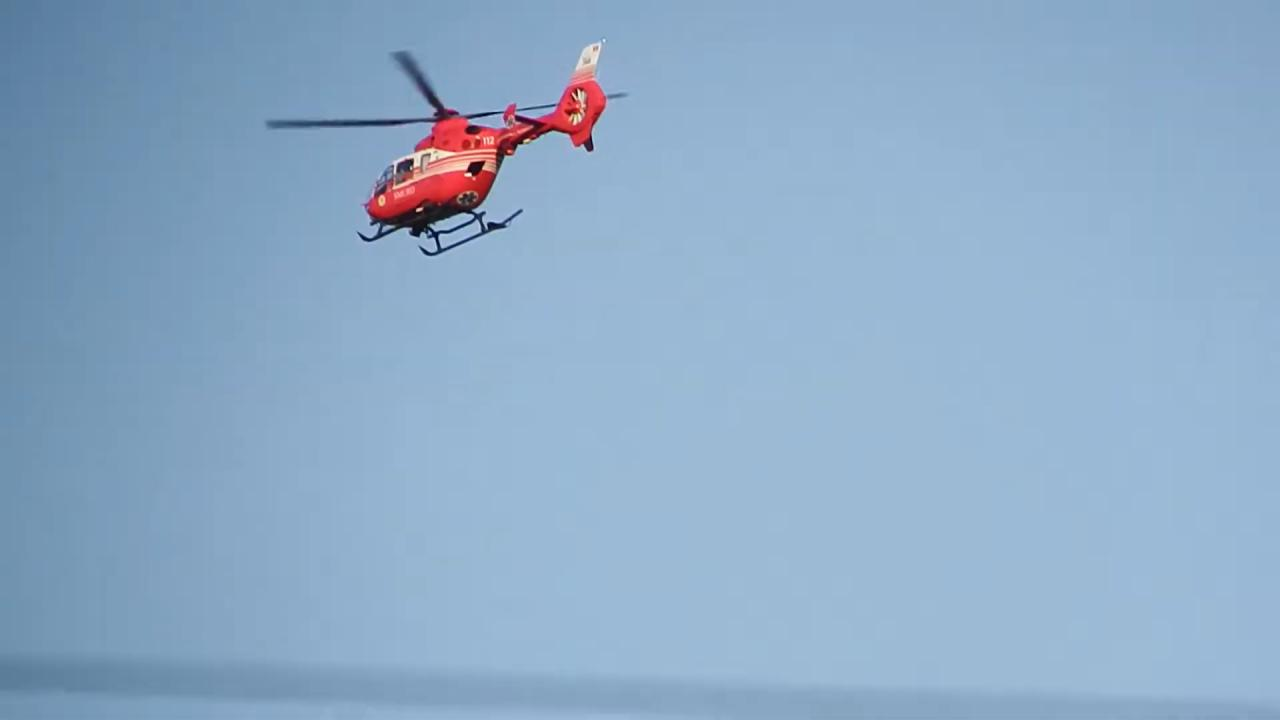Helicopter: (256, 25, 642, 263)
